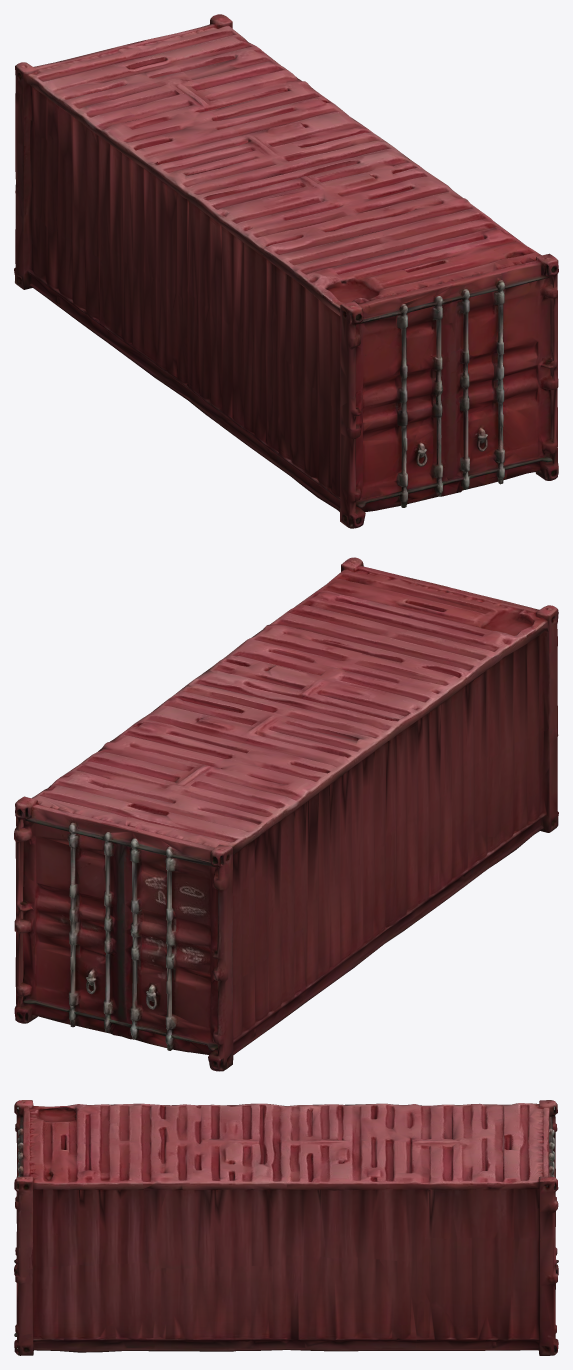
Rendered from container.glb.
3 renders of one model, top to bottom at view 1: azimuth 30°, elevation 25°; view 2: azimuth 150°, elevation 25°; view 3: azimuth 270°, elevation 25°, orthographic. The views are drawn at different scales.
Visible parts, largest first — view 1: tripo_node_18ec20e5-4c9f-4201-bccf-cbc39e42ec2f; view 2: tripo_node_18ec20e5-4c9f-4201-bccf-cbc39e42ec2f; view 3: tripo_node_18ec20e5-4c9f-4201-bccf-cbc39e42ec2f.
Boxes of the visible parts, box(x1,y1,x2,y2) form: tripo_node_18ec20e5-4c9f-4201-bccf-cbc39e42ec2f: box(14, 14, 558, 528); tripo_node_18ec20e5-4c9f-4201-bccf-cbc39e42ec2f: box(14, 557, 558, 1071); tripo_node_18ec20e5-4c9f-4201-bccf-cbc39e42ec2f: box(14, 1100, 558, 1355).
Bounding box in the file's own units: 0.3577 × 0.3571 × 0.9999.
1 material, 1 textured.
